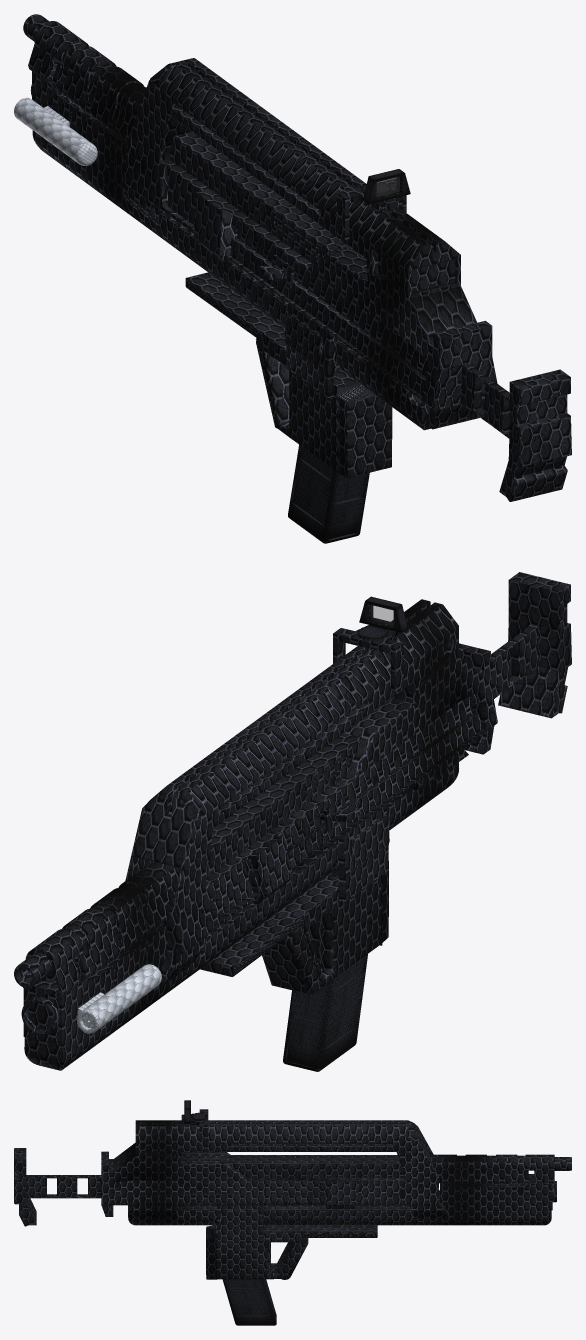
Rendered from Assult Rifle_FBX.fbx.
The picture shows the model from 3 angles, top to bottom: view 1: azimuth 30°, elevation 25°; view 2: azimuth 150°, elevation 25°; view 3: azimuth 270°, elevation 25°; orthographic projection. The views are drawn at different scales.
Parts seen in each view (by area): view 1: Gun_, Magazine, Laser_Pointer, Cube_2; view 2: Gun_, Magazine, Laser_Pointer, Cube_2; view 3: Gun_, Magazine.
Part boxes in pixels (left/top/right/bottom): Gun_: left=23, top=14, right=571, bottom=501; Magazine: left=288, top=444, right=369, bottom=543; Laser_Pointer: left=14, top=97, right=97, bottom=165; Cube_2: left=363, top=169, right=410, bottom=204; Gun_: left=14, top=572, right=571, bottom=1070; Magazine: left=283, top=954, right=367, bottom=1071; Laser_Pointer: left=76, top=964, right=161, bottom=1033; Cube_2: left=359, top=596, right=407, bottom=632; Gun_: left=14, top=1109, right=571, bottom=1279; Magazine: left=222, top=1279, right=276, bottom=1325.
Bounding box in the file's own units: 35.95 × 158 × 368.
Materials: 3 (2 with a texture image).
